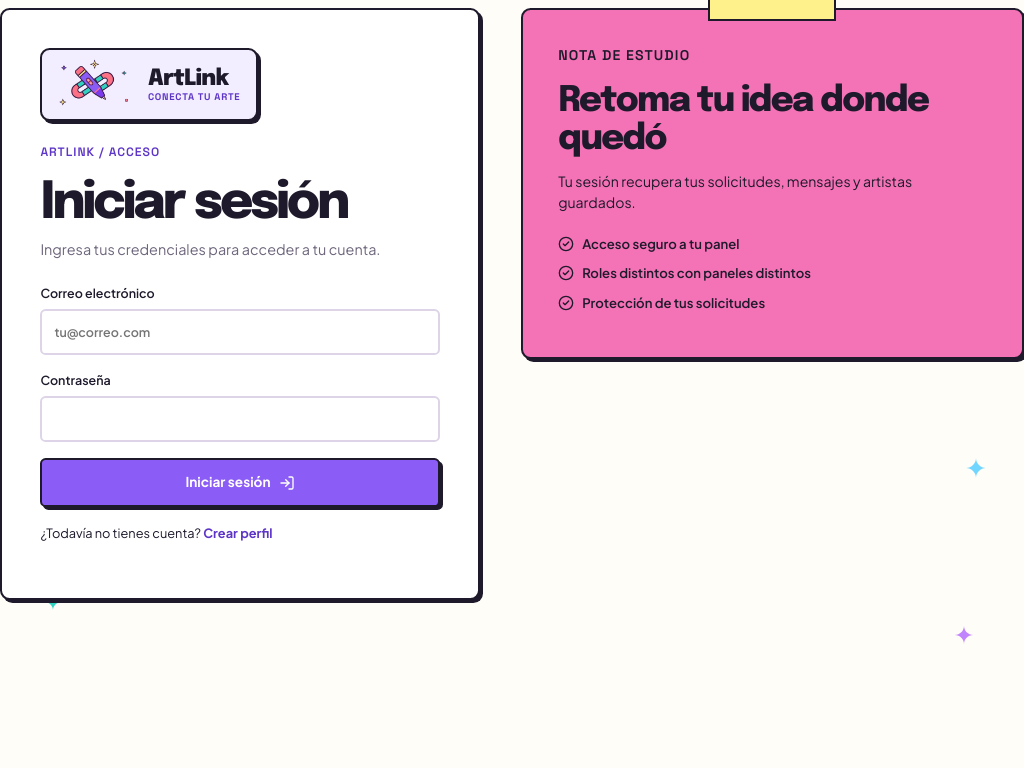
Scenario: LoginPage › shows an accessible error when credentials are rejected
Type "wrong@example.com" into the field labelled "Correo electrónico" at (240, 332), box [40, 309, 440, 355]
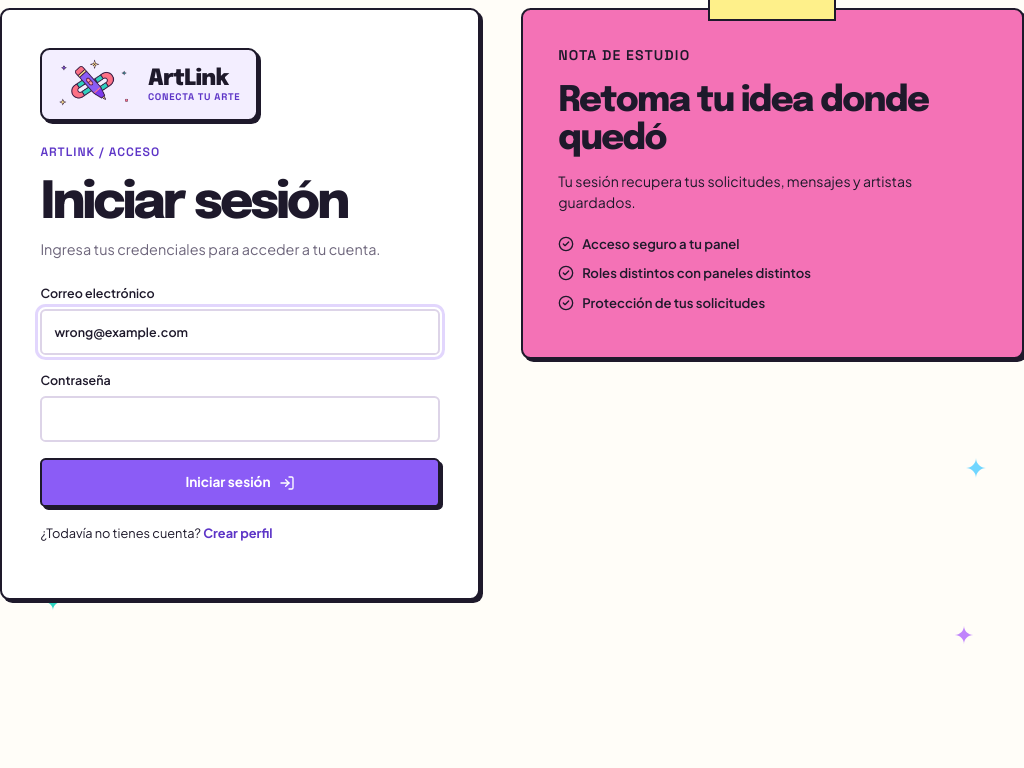
Type "wrongpass" into the password field named "Contraseña demo" at (240, 419), box [40, 396, 440, 442]
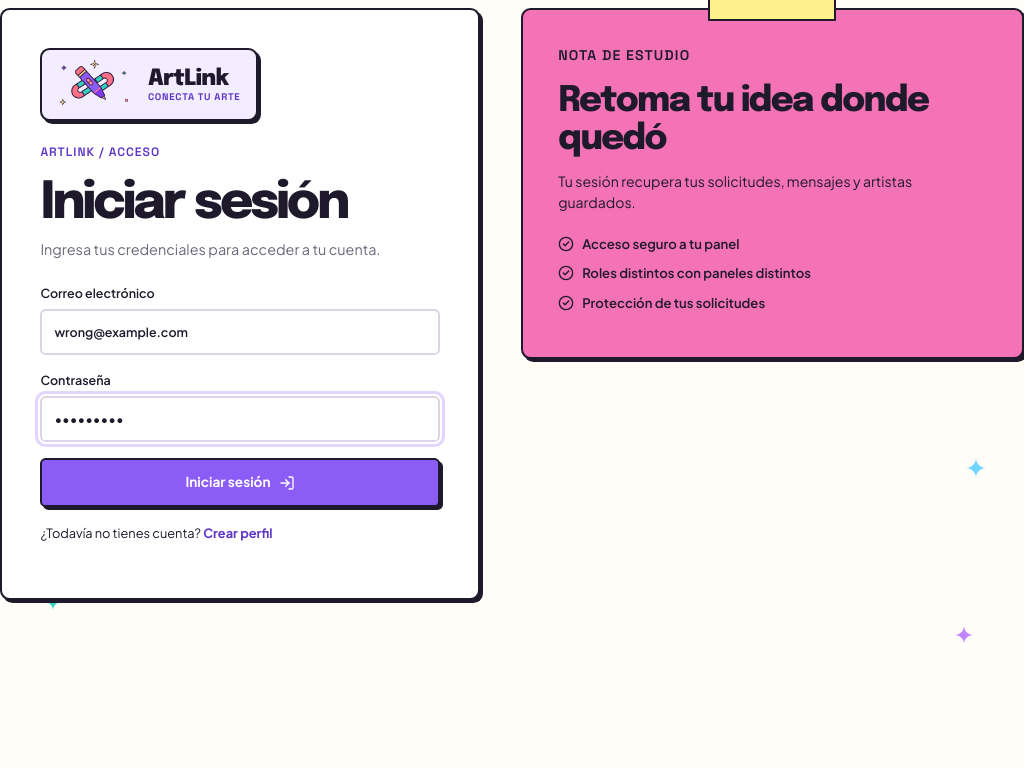
Click the button "Iniciar sesión" at (240, 482), box [40, 458, 440, 507]
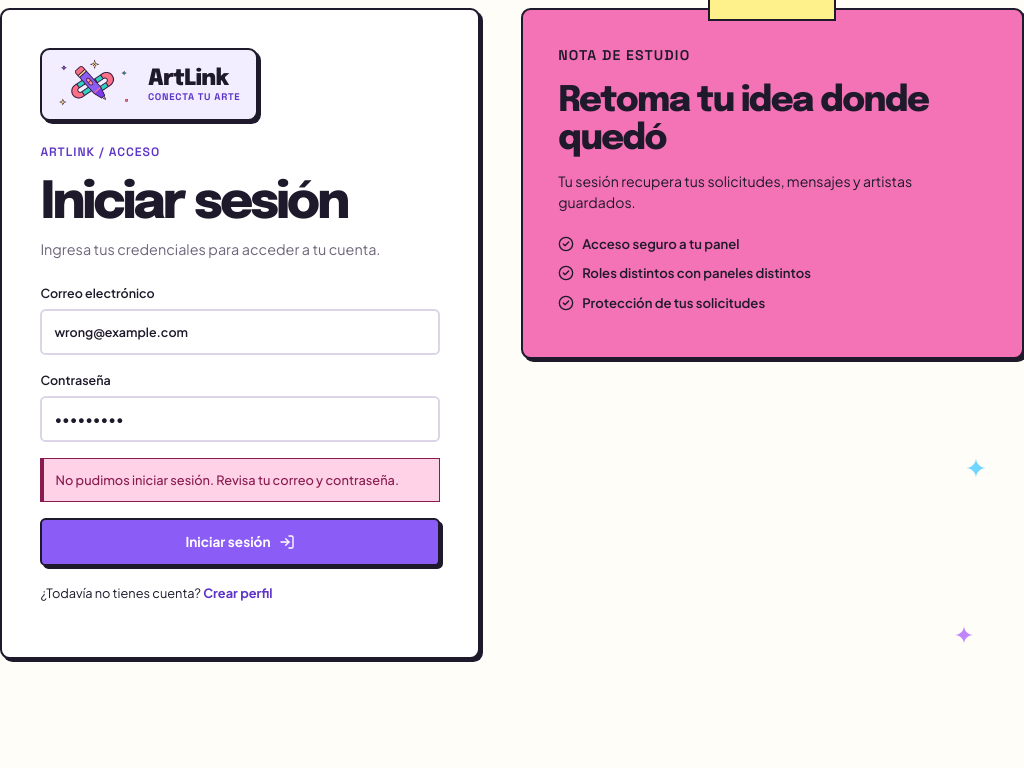
Result: the message shows "No pudimos iniciar sesión" at [56, 472, 399, 488]
